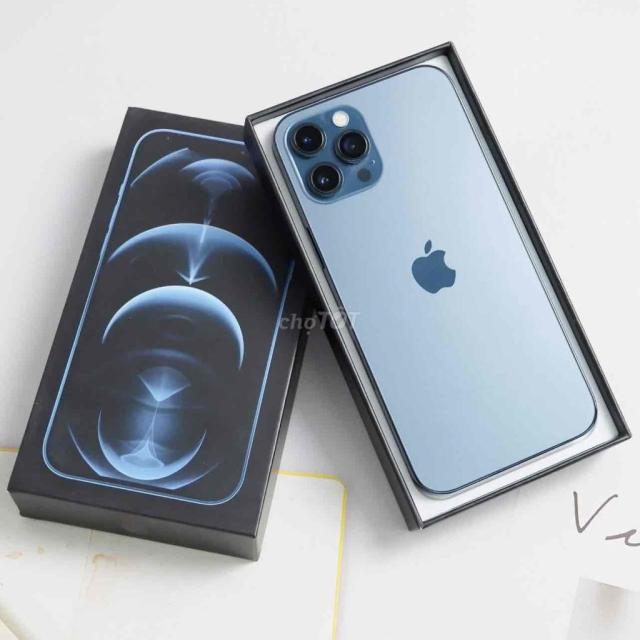gen_12_13: (274, 67, 598, 497)
